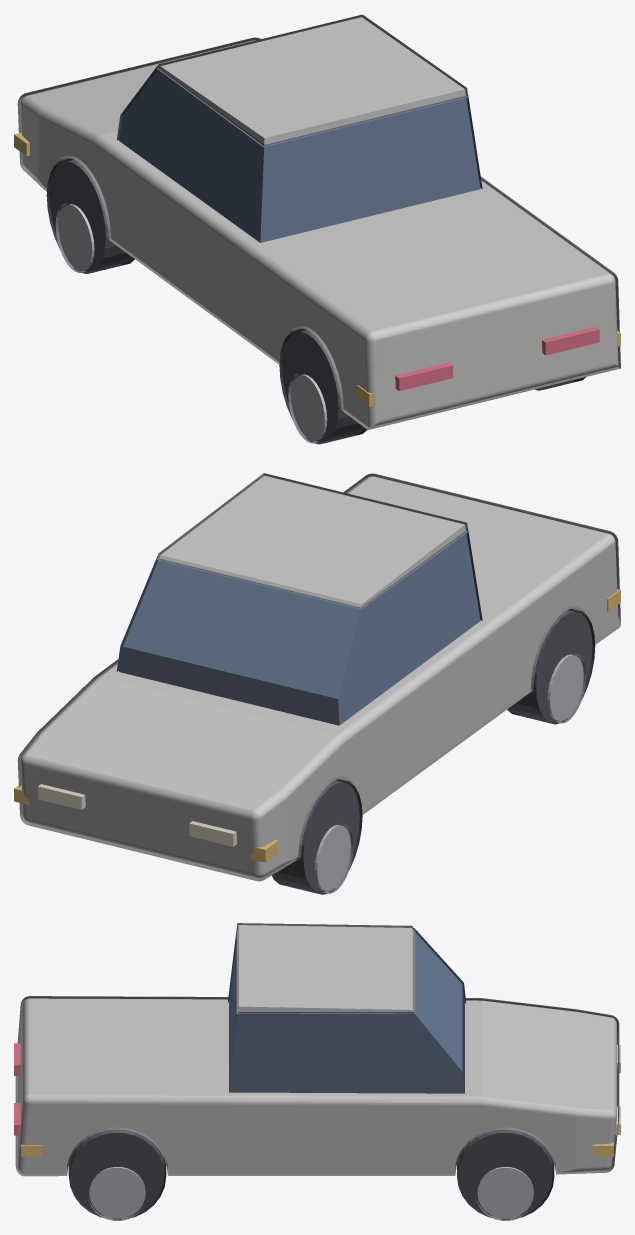
The model's file is traffic_pickup_2.glb.
3 views of the same model, one above another, from view 1: azimuth 30°, elevation 25°; view 2: azimuth 150°, elevation 25°; view 3: azimuth 270°, elevation 25° (orthographic). The views are drawn at different scales.
Visible parts, largest first — view 1: car, blink; view 2: car, blink; view 3: car, blink.
Boxes of the visible parts, <box> form: car: <box>17,14,620,444</box>; blink: <box>14,132,620,406</box>; car: <box>17,473,620,894</box>; blink: <box>14,589,620,862</box>; car: <box>14,923,620,1220</box>; blink: <box>21,1142,613,1156</box>.
Size of the model in its own units: 2.15 by 1.9 by 5.16.
